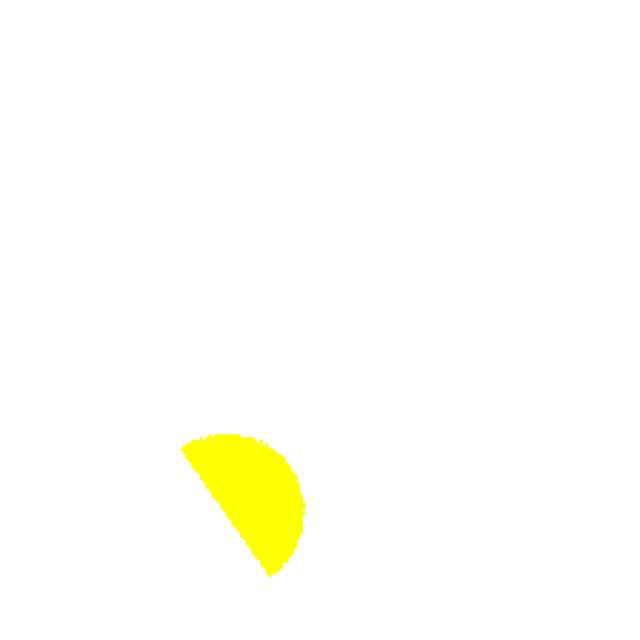Semicircle: (146, 386, 374, 623)
